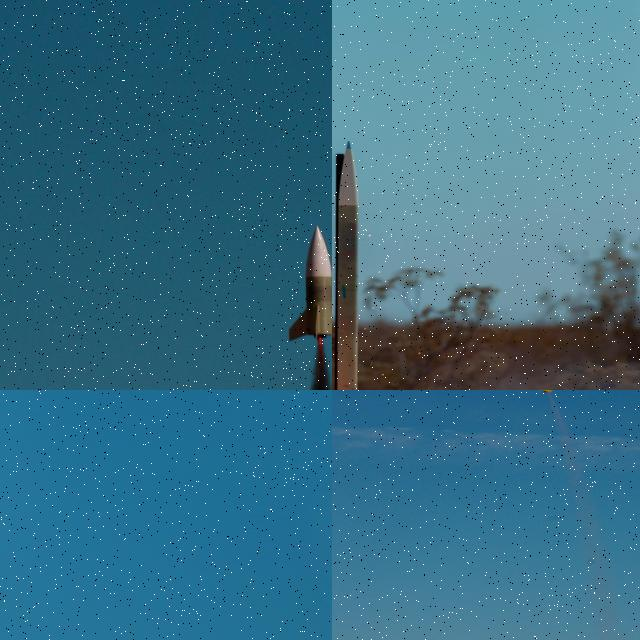Rocket: (332, 140, 365, 390), (287, 224, 332, 342)
